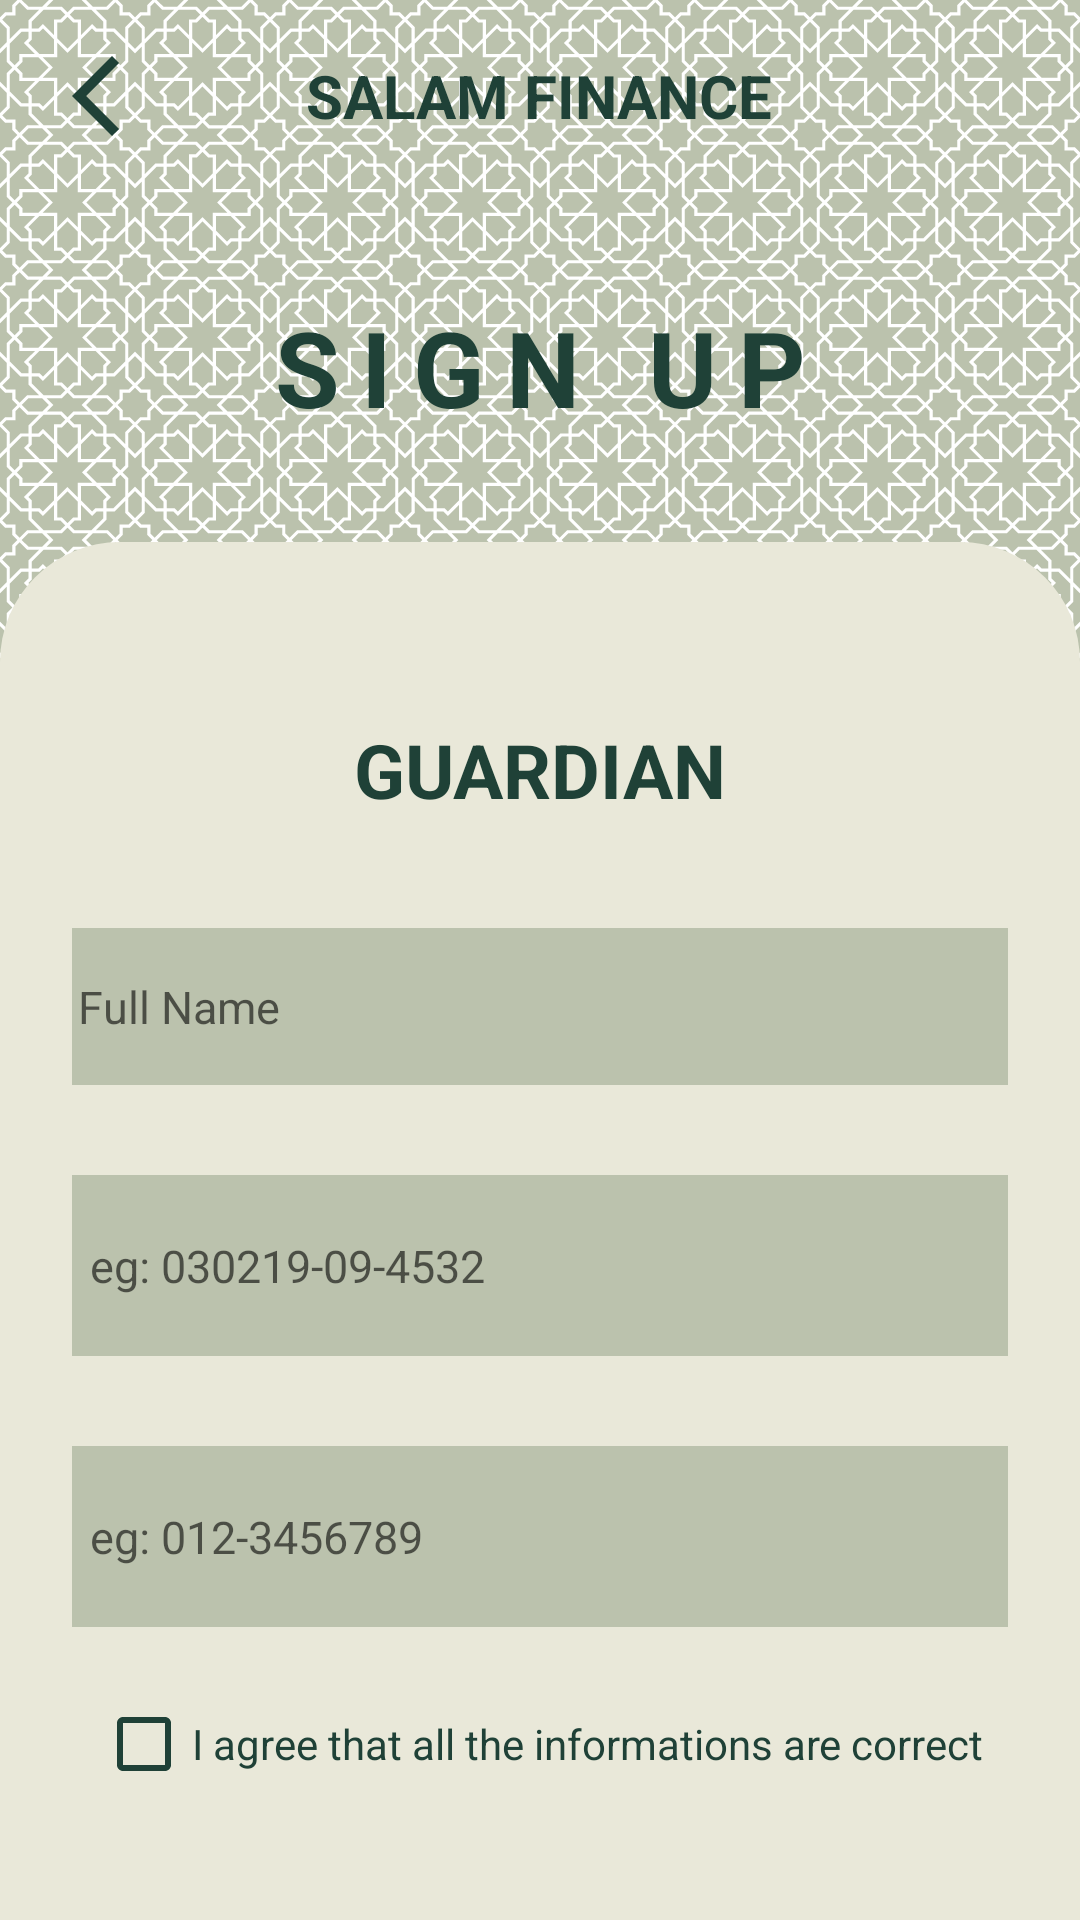

Icon click points for this 1080*1920 phone screenshot, format (x=x, y=y):
arrow back: (x=96, y=96)
